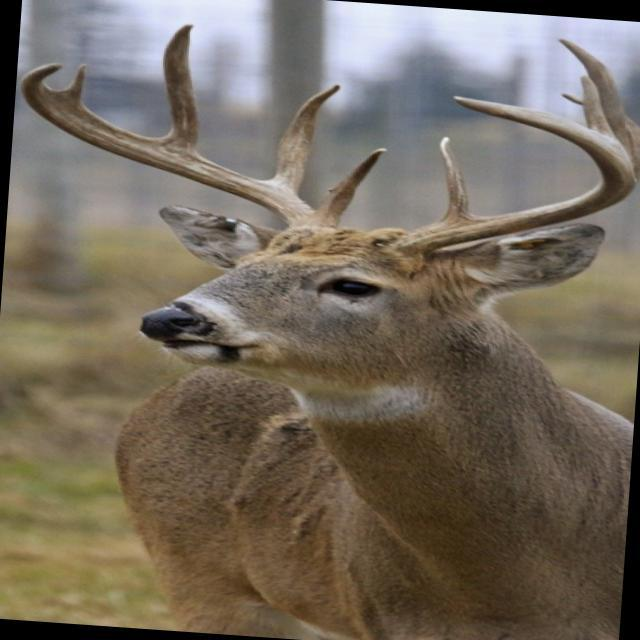L-F: (389, 94, 637, 258)
L-G1: (435, 133, 476, 220)
L-G4: (579, 72, 622, 144)
R-F: (19, 60, 332, 229)
R-G1: (314, 146, 388, 228)
R-G2: (264, 83, 342, 197)
R-G3: (153, 23, 200, 154)
R-G4: (54, 60, 91, 105)
